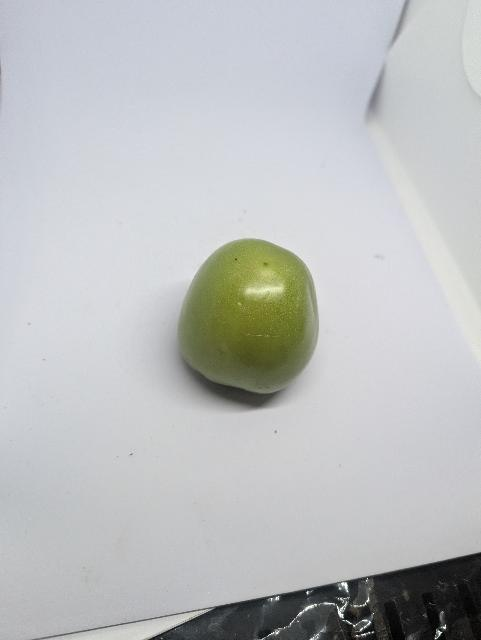green: (176, 236, 323, 396)
